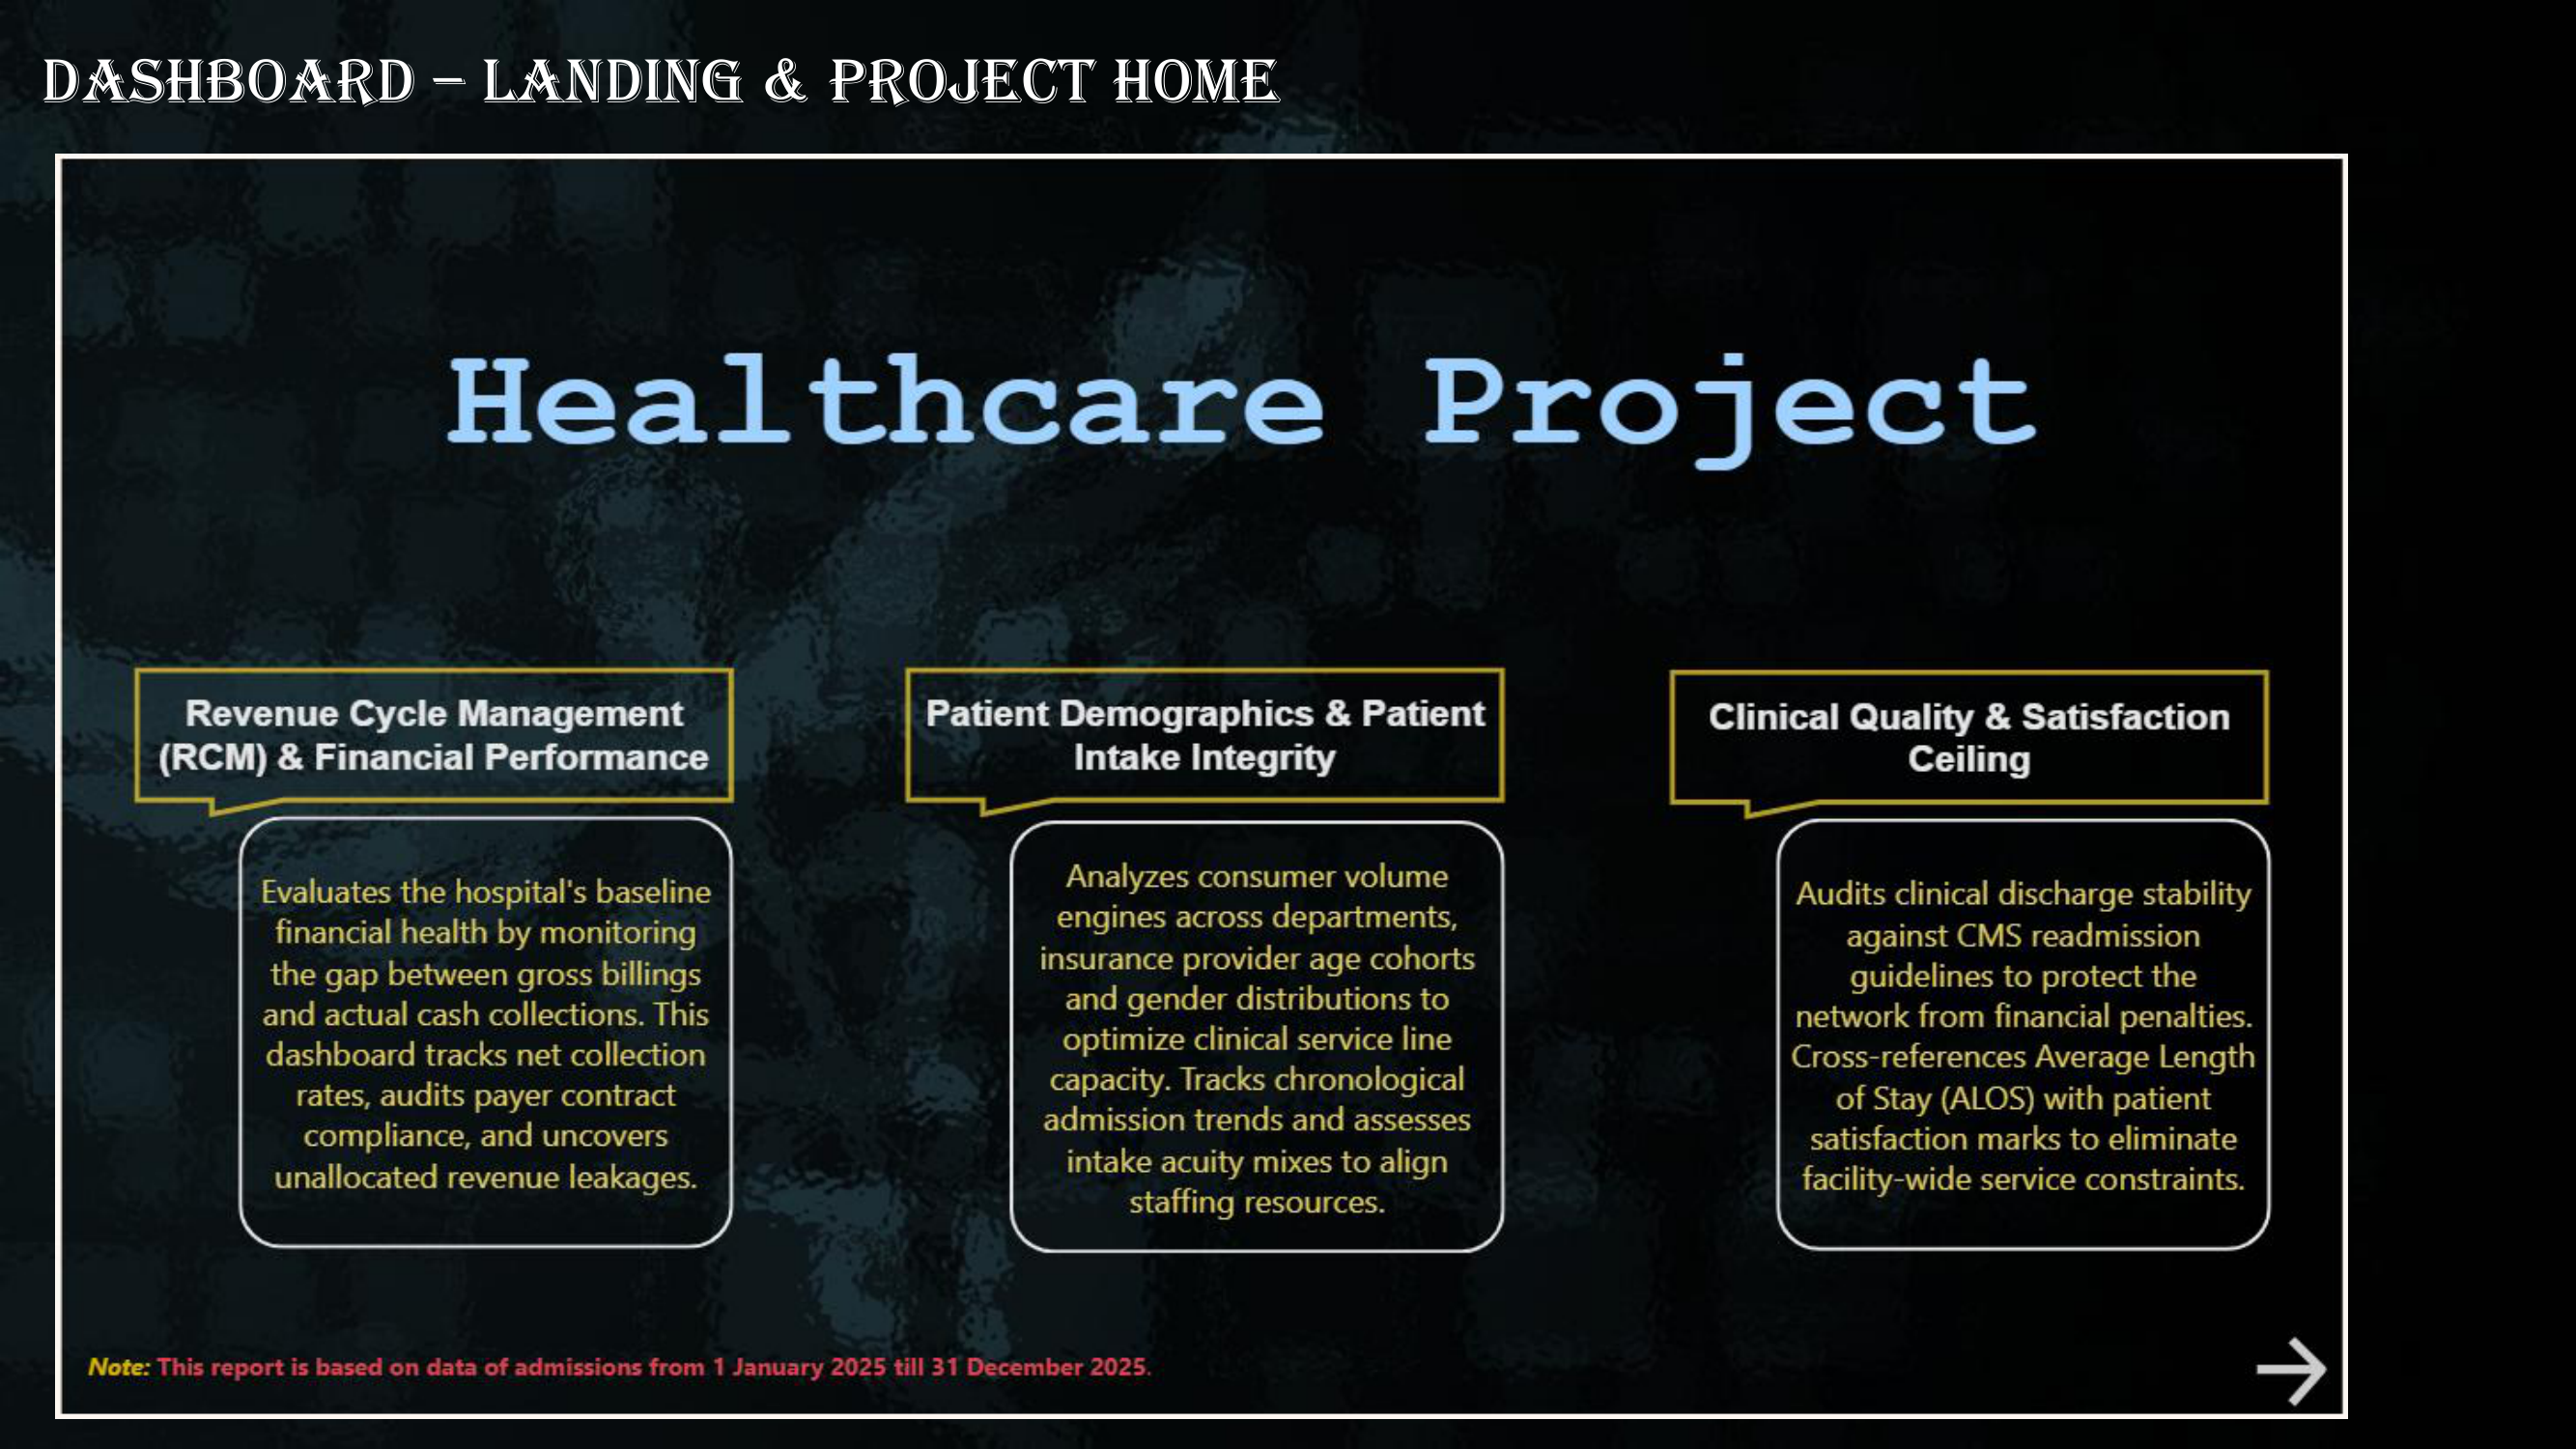

The dashboard page shown, as its layout file describes it:
{"tool":"powerbi","page":{"name":"Home","canvas":[1280,720],"ordinal":0},"visuals":[{"type":"shape","box":[60,291.4,325.7,82.9],"z":1000},{"type":"shape","box":[894.3,292.9,325.7,82.9],"z":2000},{"type":"shape","box":[478.6,291.4,325.7,82.9],"z":3000},{"type":"shape","box":[117.1,374.3,268.6,238.6],"z":4000},{"type":"shape","box":[535.2,376,269,238.8],"z":5000},{"type":"shape","box":[951.4,375.7,268.6,238.6],"z":6000},{"type":"shape","box":[142.4,68.8,1037.5,155.6],"z":9000},{"type":"actionButton","box":[1206.2,655.9,52.1,48],"z":10000},{"type":"textbox","box":[30.6,663.8,631.5,32.3],"z":11000}]}

Visuals, with their boxes in screenshot pixels (x1, y1, x2, y2), scaled from the page's 1280x720 canvas onto the 2576x1449 screenshot:
shape: [left=121, top=586, right=777, bottom=753]
shape: [left=1799, top=589, right=2455, bottom=756]
shape: [left=963, top=586, right=1619, bottom=753]
shape: [left=236, top=753, right=777, bottom=1234]
shape: [left=1077, top=756, right=1619, bottom=1237]
shape: [left=1914, top=756, right=2455, bottom=1236]
shape: [left=287, top=138, right=2374, bottom=452]
actionButton: [left=2427, top=1320, right=2533, bottom=1416]
textbox: [left=62, top=1336, right=1333, bottom=1401]
